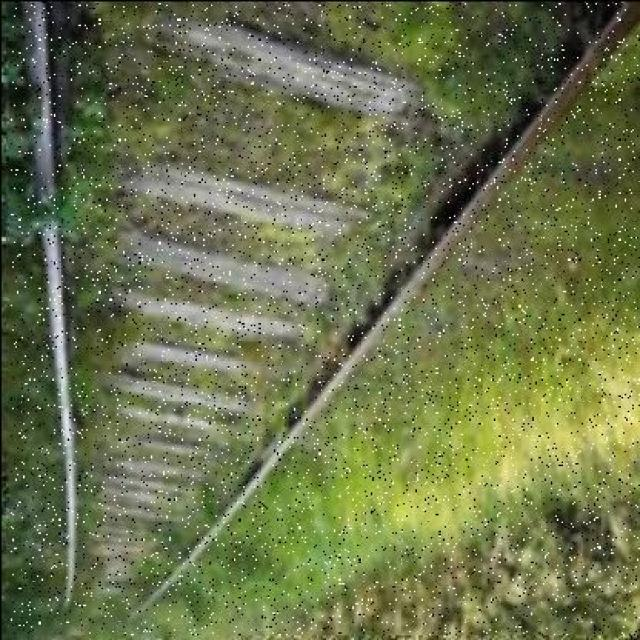rail: (9, 2, 640, 633)
